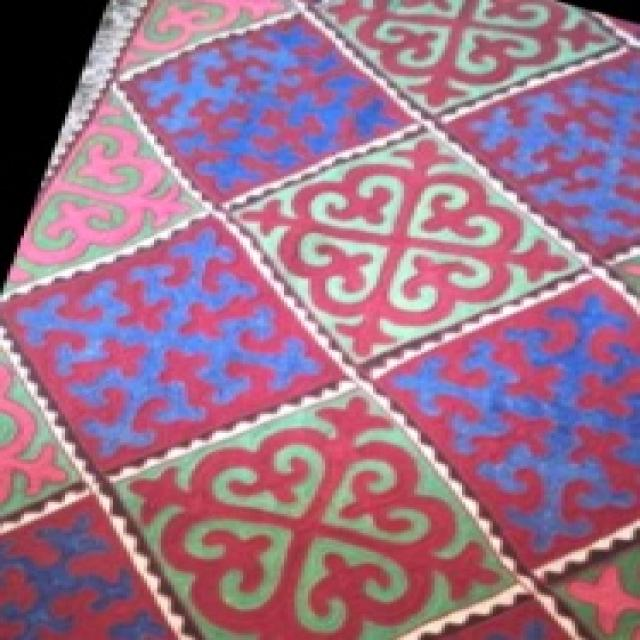Unity: (106, 396, 512, 638), (233, 131, 589, 364), (315, 0, 618, 114)
